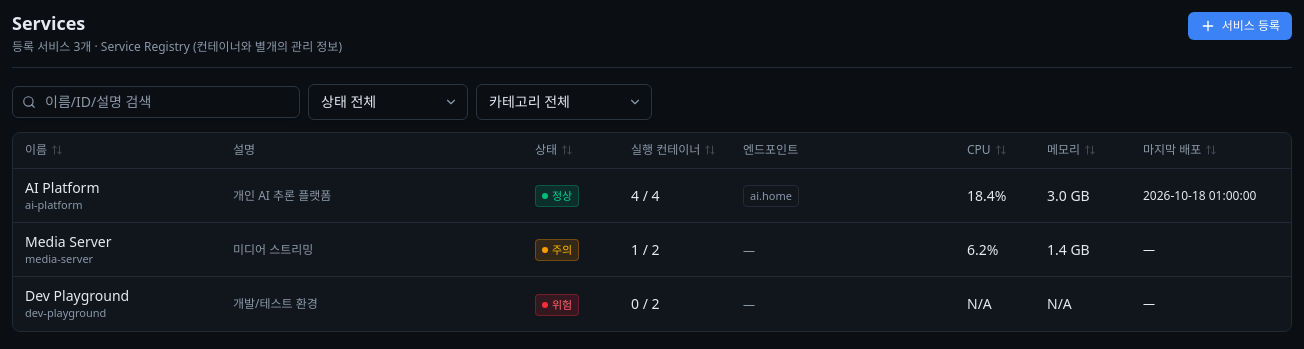
Test: Services 페이지 › 필터 해제 버튼이 활성 필터 수를 표시하고 초기화한다
Expected: the text "AI Platform" is shown, x1=25 y1=178 x2=100 y2=197
Select "정상 (OK)" in the dropdown named "상태 필터" at (388,102), box x1=308 y1=84 x2=468 y2=120
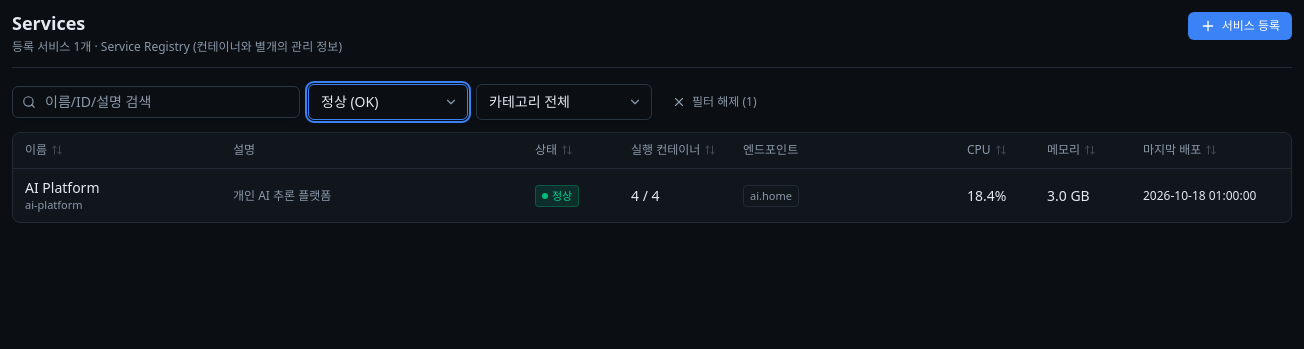
Expected: the button "필터 해제 (1)" is shown
Click the button "필터 해제 (1)".
click(714, 102)  # box x1=660 y1=88 x2=768 y2=116
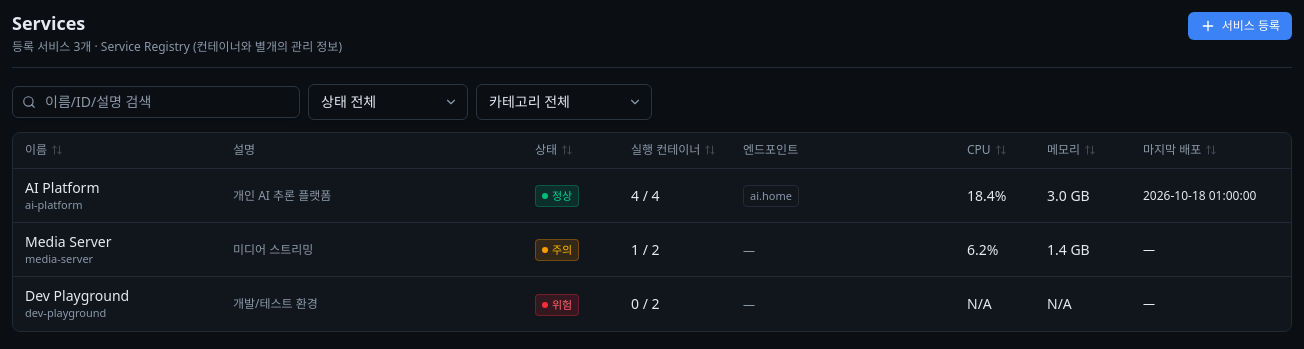
Expected: the text "Media Server" is shown, x1=25 y1=232 x2=112 y2=251
Expected: the text "Dev Playground" is shown, x1=25 y1=286 x2=129 y2=305
